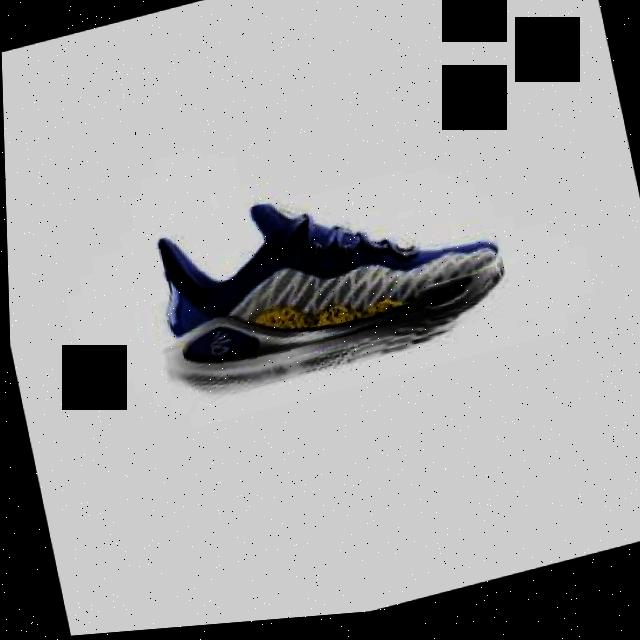shoe: (136, 154, 514, 413)
